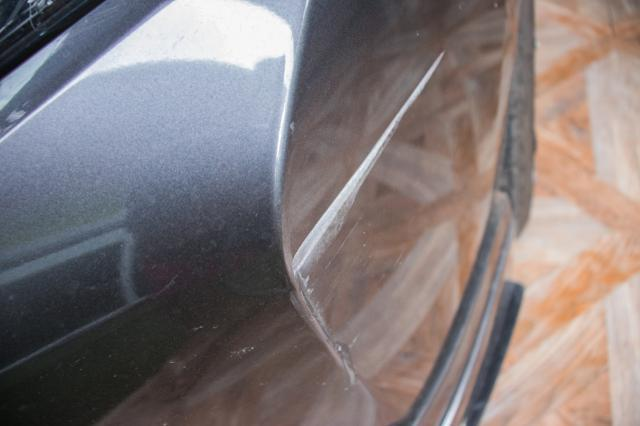scratch: (283, 49, 450, 394)
